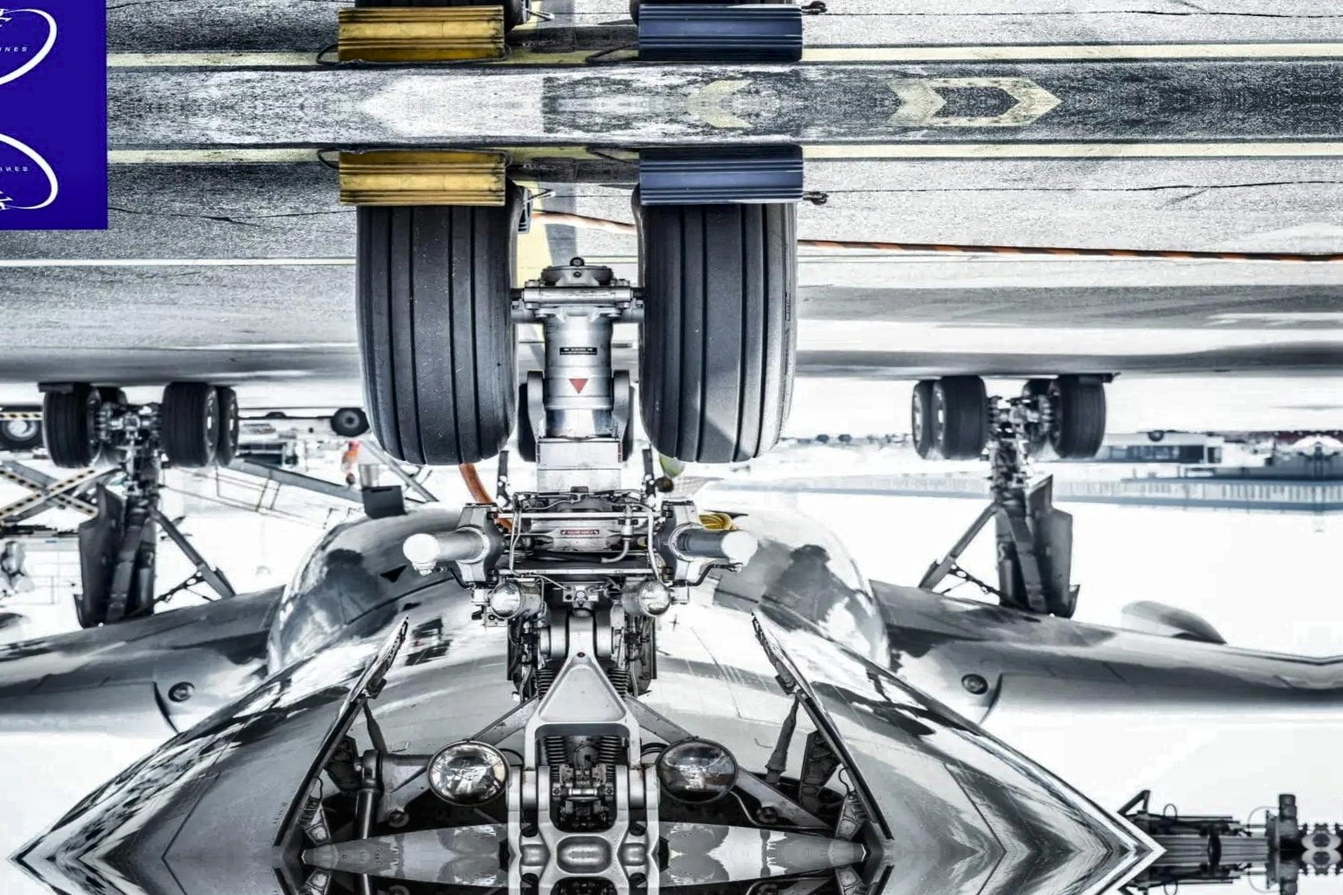chock: (635, 141, 814, 209), (634, 0, 812, 66), (335, 1, 510, 68), (336, 144, 511, 210)
wheel: (351, 178, 523, 463), (629, 182, 794, 463), (514, 371, 633, 465), (158, 383, 237, 470), (1034, 375, 1107, 461), (40, 383, 102, 470), (934, 376, 989, 461), (86, 387, 131, 465), (1016, 379, 1057, 451), (908, 380, 944, 460), (208, 386, 240, 465), (515, 374, 542, 465), (615, 379, 635, 463), (0, 416, 46, 451), (330, 407, 370, 438), (264, 412, 286, 420)
